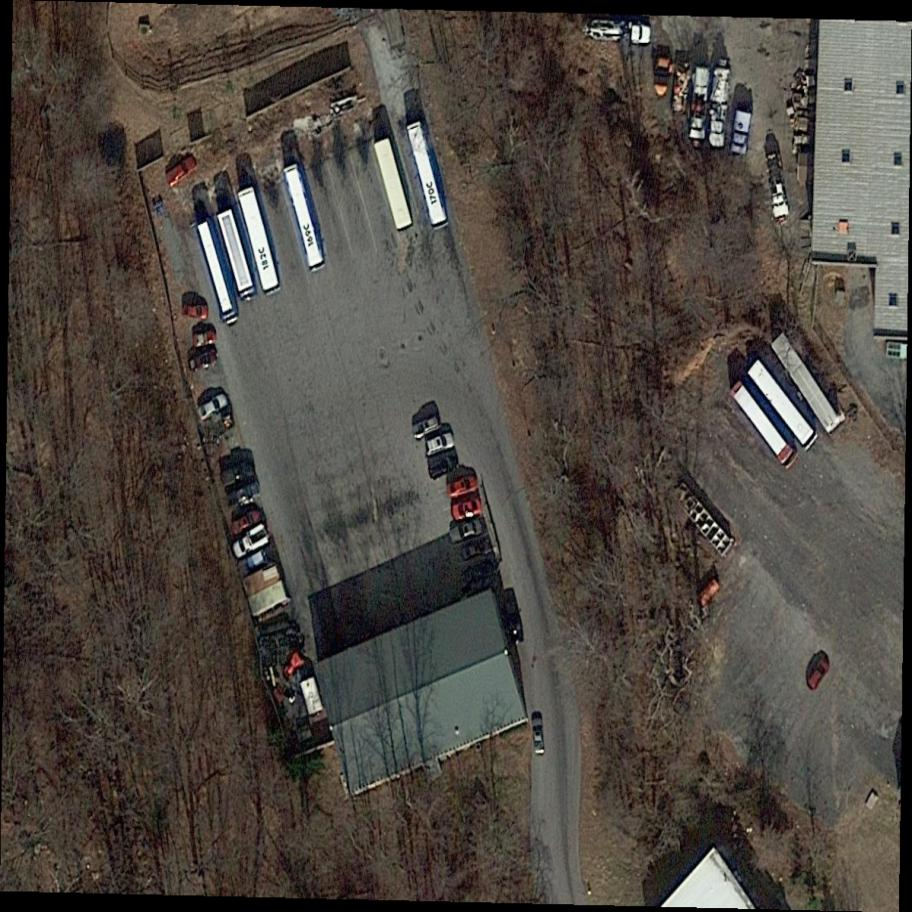large-vehicle: (762, 328, 847, 432), (745, 359, 827, 451), (724, 380, 802, 469), (230, 185, 285, 293), (279, 161, 329, 273), (191, 215, 240, 328), (403, 117, 452, 227), (213, 203, 261, 304), (372, 134, 411, 231), (710, 65, 731, 145)
small-vehicle: (159, 154, 204, 190), (229, 525, 275, 560), (193, 388, 235, 423), (501, 588, 525, 644), (423, 451, 464, 483), (235, 547, 276, 578), (730, 108, 755, 158), (227, 505, 266, 537), (224, 481, 265, 510), (447, 517, 488, 545), (444, 470, 483, 499), (802, 657, 833, 693), (422, 429, 459, 458), (216, 447, 257, 473), (219, 464, 259, 489), (408, 414, 445, 441), (459, 538, 494, 564), (186, 351, 223, 374), (452, 497, 486, 522), (532, 713, 547, 758), (190, 327, 220, 349), (654, 57, 669, 99), (182, 304, 210, 320)
